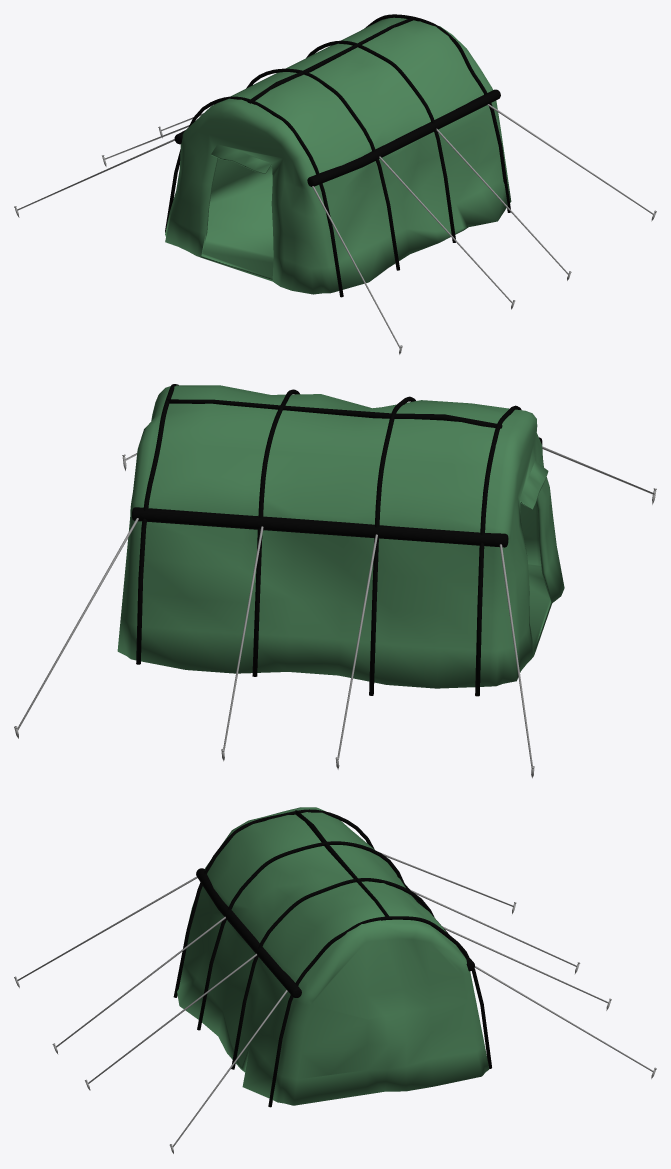
Rendered from namiot_2.glb.
The picture shows the model from 3 angles, top to bottom: view 1: azimuth 30°, elevation 25°; view 2: azimuth 150°, elevation 25°; view 3: azimuth 270°, elevation 25°; orthographic projection. The views are drawn at different scales.
Parts seen in each view (by area): view 1: tent2; view 2: tent2; view 3: tent2.
Boxes of the visible parts, x1=… form: tent2: x1=14, y1=14, x2=656, y2=354; tent2: x1=14, y1=384, x2=656, y2=778; tent2: x1=14, y1=807, x2=656, y2=1153.
Size of the model in its own units: 12.15 by 4.13 by 13.56.
